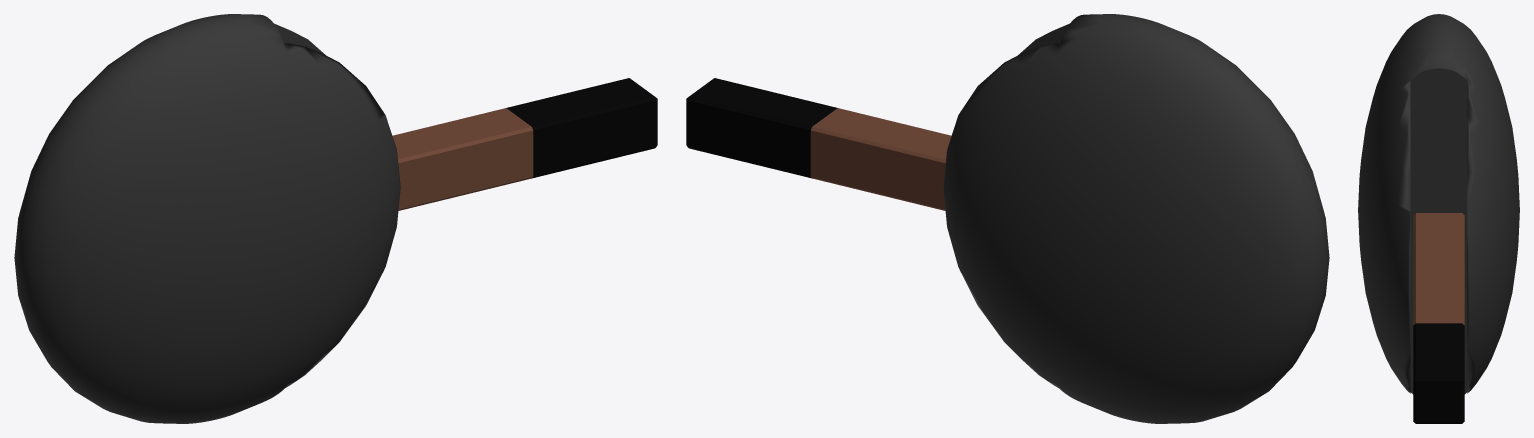
Rendered from Leva.fbx.
The picture shows the model from 3 angles, left to right: view 1: azimuth 30°, elevation 25°; view 2: azimuth 150°, elevation 25°; view 3: azimuth 270°, elevation 25°; orthographic projection. The views are drawn at different scales.
Visible parts, largest first — view 1: SferaLeva, Leva; view 2: SferaLeva, Leva; view 3: SferaLeva, Leva.
Part boxes in pixels (<box>): SferaLeva: <box>14,14,400,423</box>; Leva: <box>392,78,657,210</box>; SferaLeva: <box>943,14,1329,423</box>; Leva: <box>686,78,951,210</box>; SferaLeva: <box>1358,14,1519,394</box>; Leva: <box>1413,213,1464,423</box>.
Bounding box in the file's own units: 33.09 × 20 × 8.24.
